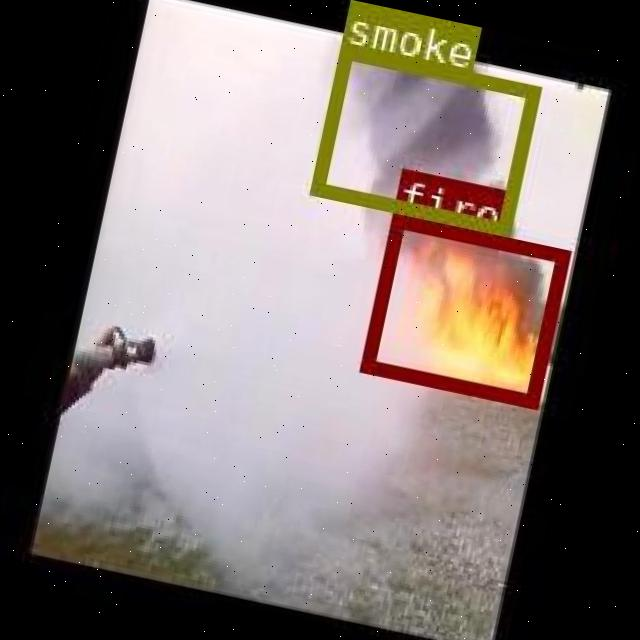fire: (358, 212, 568, 406)
smoke: (308, 43, 538, 232)
